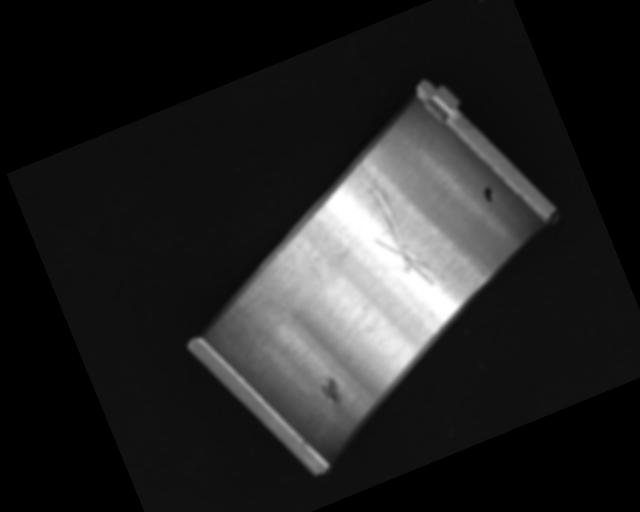blot: (480, 183, 498, 206)
bruise: (316, 374, 346, 409)
nick: (341, 148, 444, 300)
scratch: (212, 227, 346, 339)
